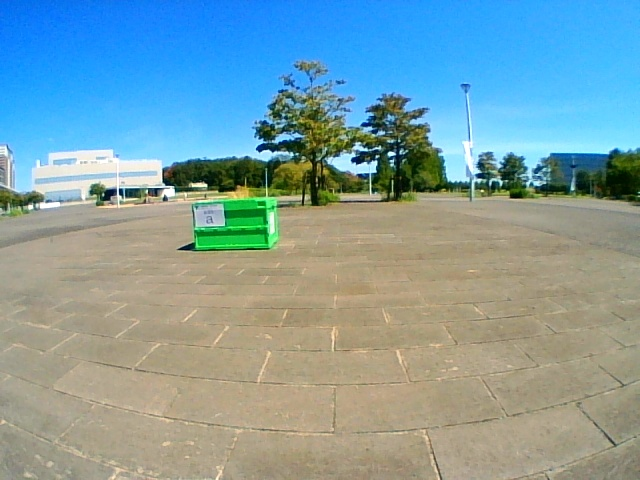green_box: (193, 198, 277, 249)
tag_a: (196, 206, 221, 226)
